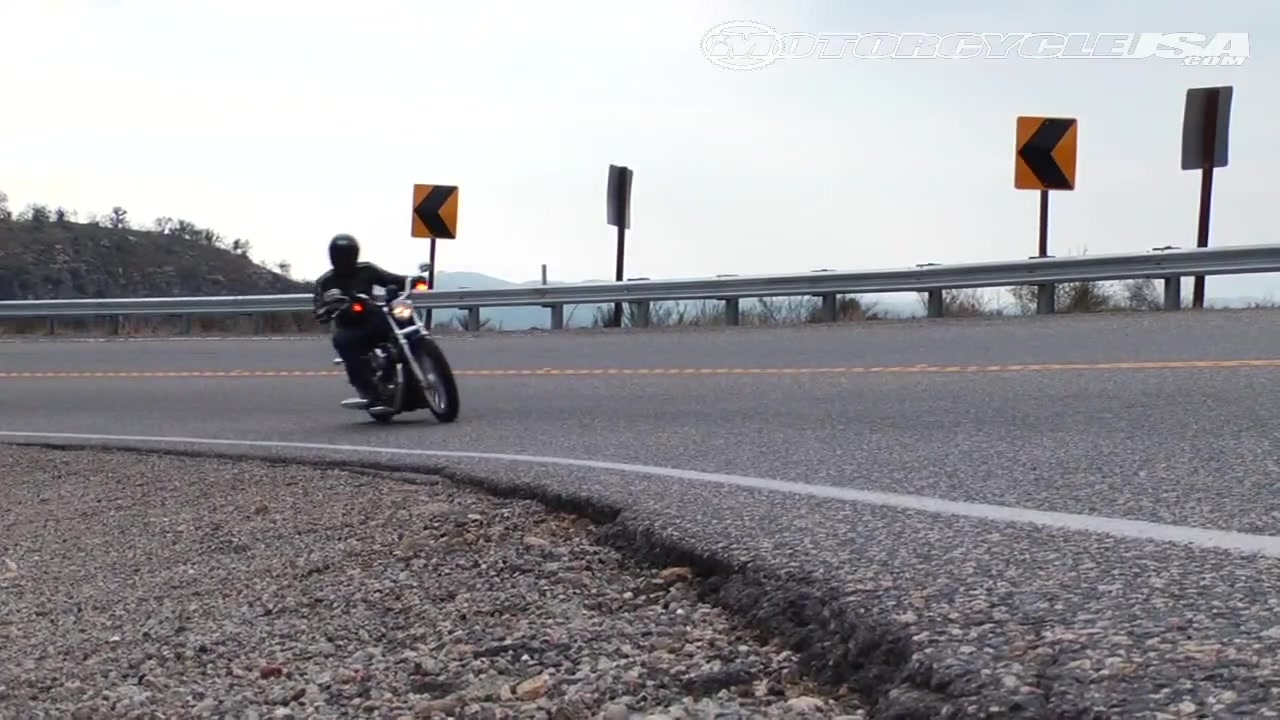motorbike: (320, 276, 463, 428)
